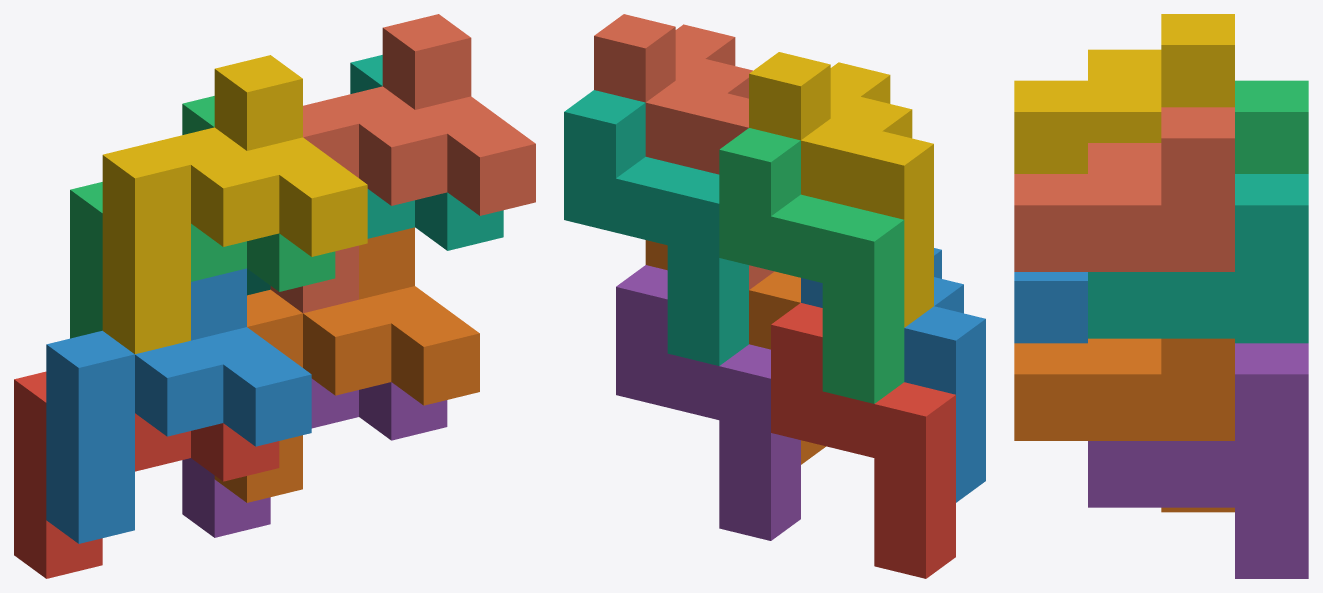
File: tiling.obj
3 views of the same model, side by side, from view 1: azimuth 30°, elevation 25°; view 2: azimuth 150°, elevation 25°; view 3: azimuth 270°, elevation 25° (orthographic). The views are drawn at different scales.
Visible parts, largest first — view 1: copy_1_domain_4, copy_1_domain_2, copy_1_domain_8, copy_1_domain_6, copy_1_domain_1, copy_1_domain_3, copy_1_domain_5, copy_1_domain_7; view 2: copy_1_domain_3, copy_1_domain_7, copy_1_domain_1, copy_1_domain_4, copy_1_domain_5, copy_1_domain_8, copy_1_domain_2, copy_1_domain_6; view 3: copy_1_domain_8, copy_1_domain_5, copy_1_domain_6, copy_1_domain_7, copy_1_domain_4, copy_1_domain_3, copy_1_domain_2.
Boxes of the visible parts, box(x1,y1,x2,y2) form: copy_1_domain_4: box(102, 55, 367, 354); copy_1_domain_2: box(46, 268, 311, 543); copy_1_domain_8: box(270, 14, 535, 313); copy_1_domain_6: box(214, 227, 479, 502); copy_1_domain_1: box(14, 371, 279, 578); copy_1_domain_3: box(70, 96, 335, 338); copy_1_domain_5: box(182, 378, 447, 537); copy_1_domain_7: box(247, 55, 503, 295); copy_1_domain_3: box(719, 128, 904, 403); copy_1_domain_7: box(564, 90, 748, 365); copy_1_domain_1: box(771, 303, 955, 578); copy_1_domain_4: box(749, 52, 933, 327); copy_1_domain_5: box(616, 265, 800, 540); copy_1_domain_8: box(594, 14, 774, 289); copy_1_domain_2: box(801, 248, 985, 502); copy_1_domain_6: box(645, 240, 825, 464); copy_1_domain_8: box(1014, 107, 1234, 271); copy_1_domain_5: box(1088, 343, 1308, 578); copy_1_domain_6: box(1014, 338, 1234, 512); copy_1_domain_7: box(1088, 174, 1308, 343); copy_1_domain_4: box(1014, 14, 1234, 173); copy_1_domain_3: box(1235, 80, 1308, 173); copy_1_domain_2: box(1014, 272, 1087, 343).
Bounding box in the file's own units: 7 × 8 × 4.
